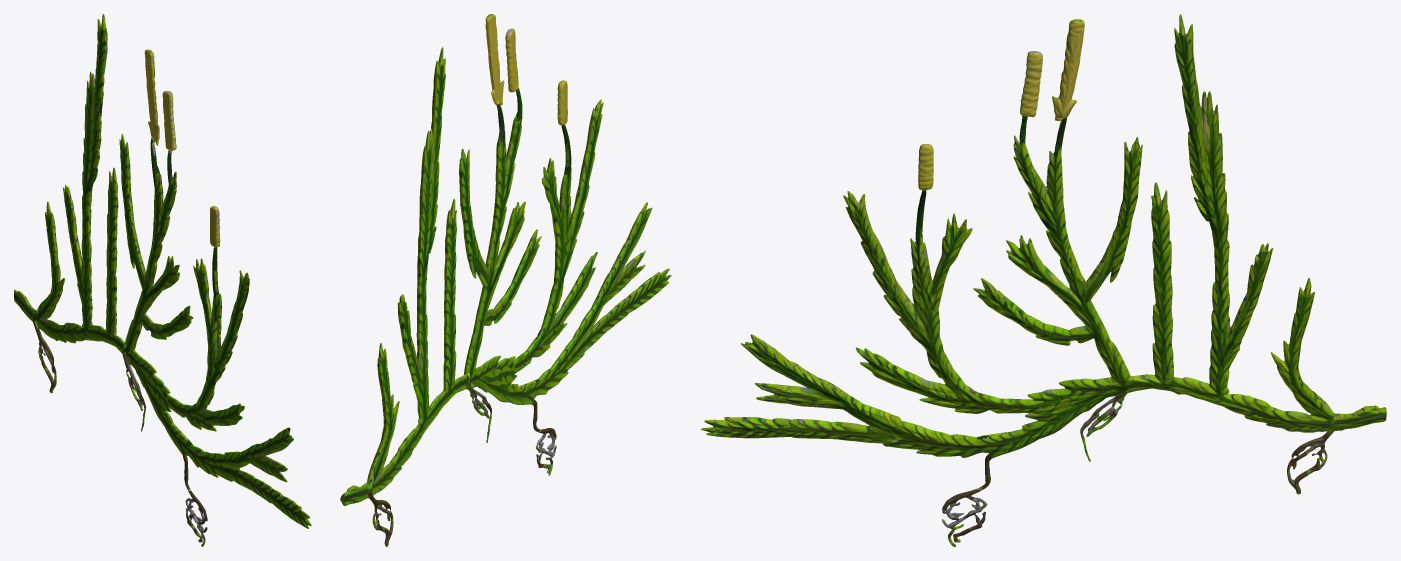
File: Licopodio3D.glb
3 views of the same model, side by side, from view 1: azimuth 30°, elevation 25°; view 2: azimuth 150°, elevation 25°; view 3: azimuth 270°, elevation 25° (orthographic). The views are drawn at different scales.
Visible parts, largest first — view 1: tripo_node_d0594aa4-12d8-4f79-9ff2-e5880aae3fab; view 2: tripo_node_d0594aa4-12d8-4f79-9ff2-e5880aae3fab; view 3: tripo_node_d0594aa4-12d8-4f79-9ff2-e5880aae3fab.
Boxes of the visible parts, <box> form: tripo_node_d0594aa4-12d8-4f79-9ff2-e5880aae3fab: <box>14,14,311,546</box>; tripo_node_d0594aa4-12d8-4f79-9ff2-e5880aae3fab: <box>340,14,671,546</box>; tripo_node_d0594aa4-12d8-4f79-9ff2-e5880aae3fab: <box>700,14,1386,546</box>.
Bounding box in the file's own units: 0.0185 × 0.8563 × 1.
1 material, 1 textured.
